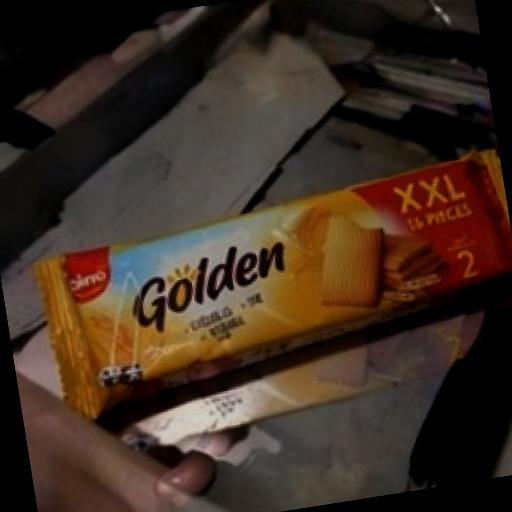golden: (6, 109, 512, 454)
